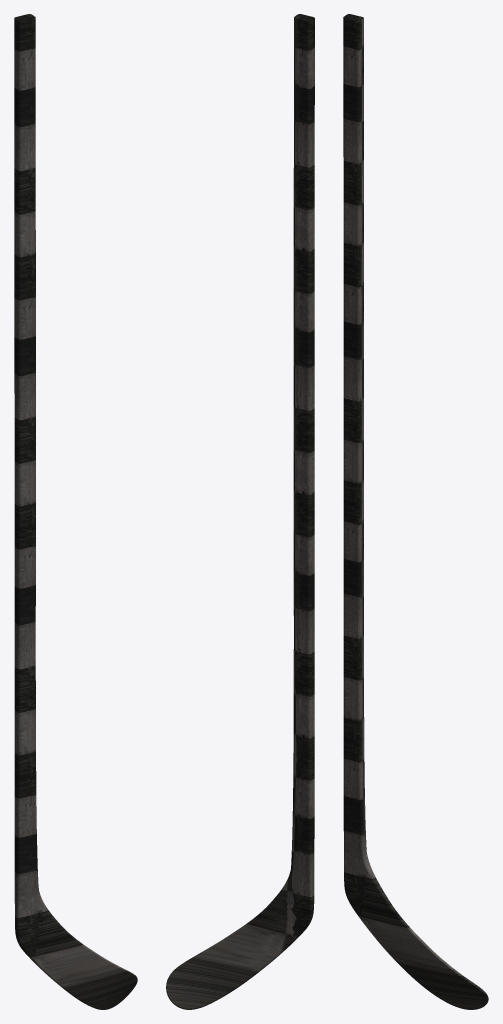
File: P25-1-4-ST-LIE5_0.glb
3 renders of one model, left to right at view 1: azimuth 30°, elevation 25°; view 2: azimuth 150°, elevation 25°; view 3: azimuth 330°, elevation 25°, orthographic. The views are drawn at different scales.
Parts seen in each view (by area): view 1: geometry_0; view 2: geometry_0; view 3: geometry_0.
Boxes of the visible parts, x1=… form: geometry_0: x1=14, y1=14, x2=137, y2=1009; geometry_0: x1=166, y1=14, x2=314, y2=1009; geometry_0: x1=343, y1=14, x2=488, y2=1009.
Bounding box in the file's own units: 227 × 1650 × 64.7.
Materials: 1 (1 with a texture image).
